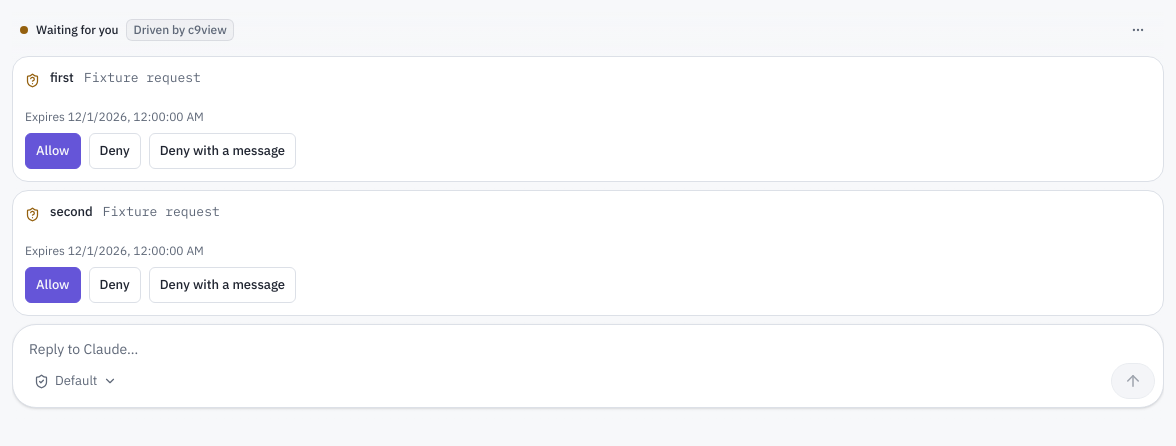
Test case: focuses the composer after a clean reply failure (cards: true)
Type "Fixture reply" into the text box named "Reply to session".
click(588, 344); type("Fixture reply")  # box [13,325,1163,363]
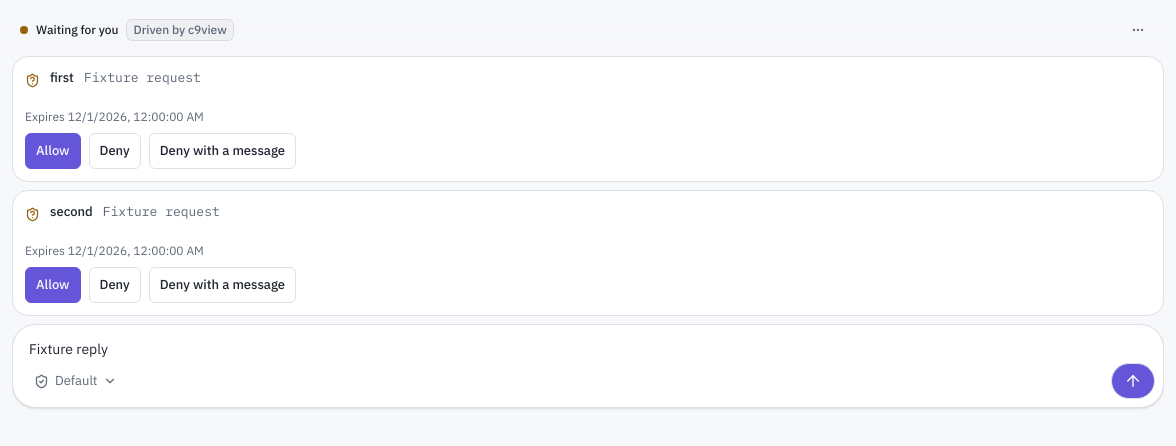
Click the button named "Send".
click(1133, 381)  # box [1111,363,1155,399]
Wait 10 ms
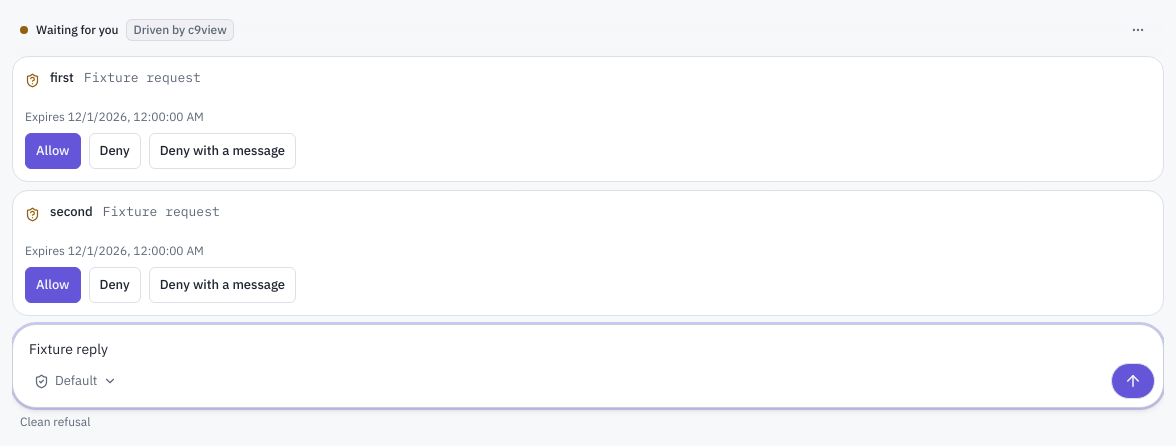
Expected: the text "Clean refusal" is shown, [20,414,90,429]
